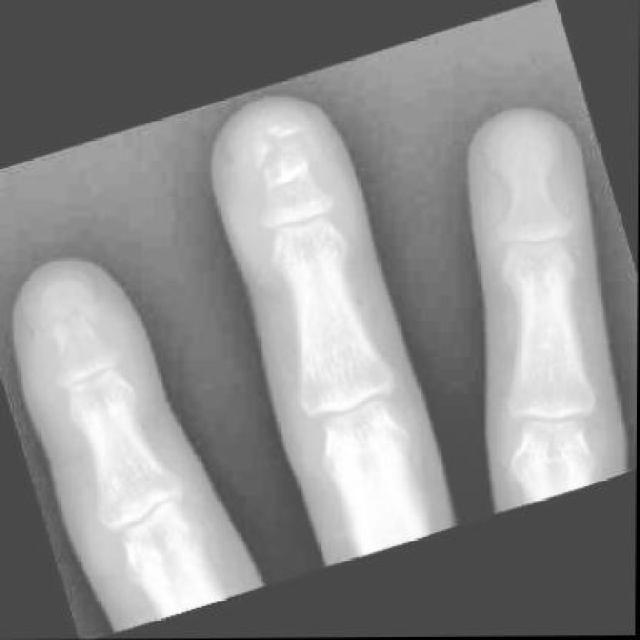Fracture: (228, 91, 341, 197)
